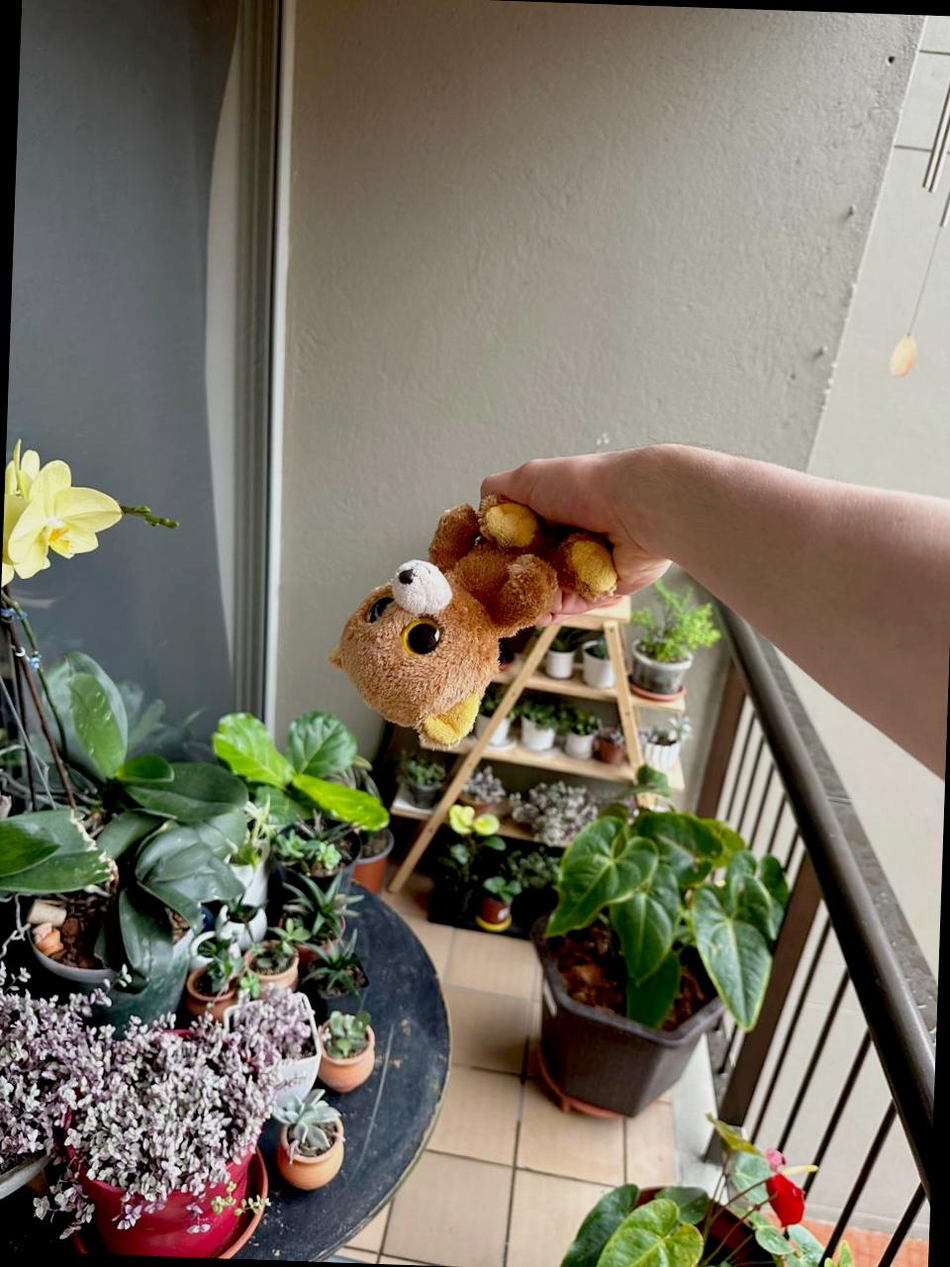peluche_sebastian: (330, 487, 628, 753)
